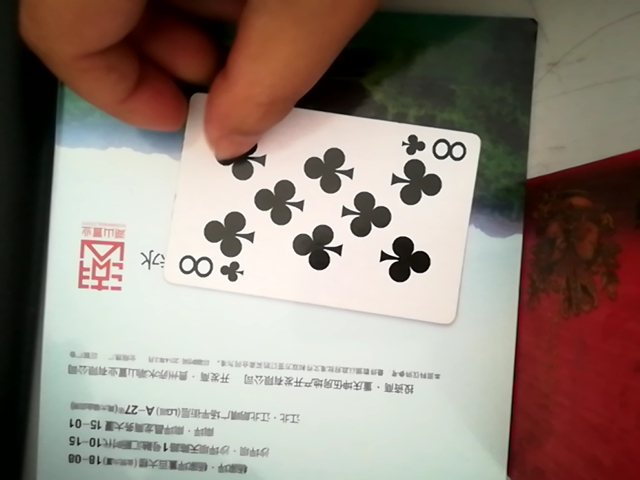mh 8: (147, 112, 483, 332)
